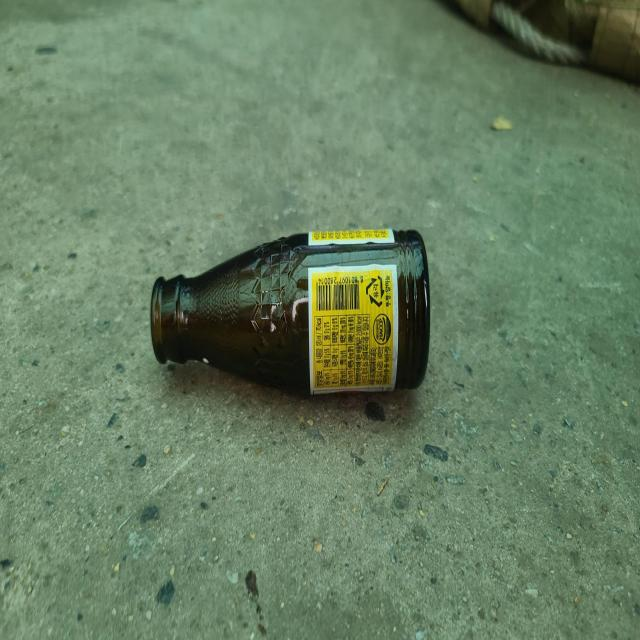glass: (150, 228, 431, 394)
